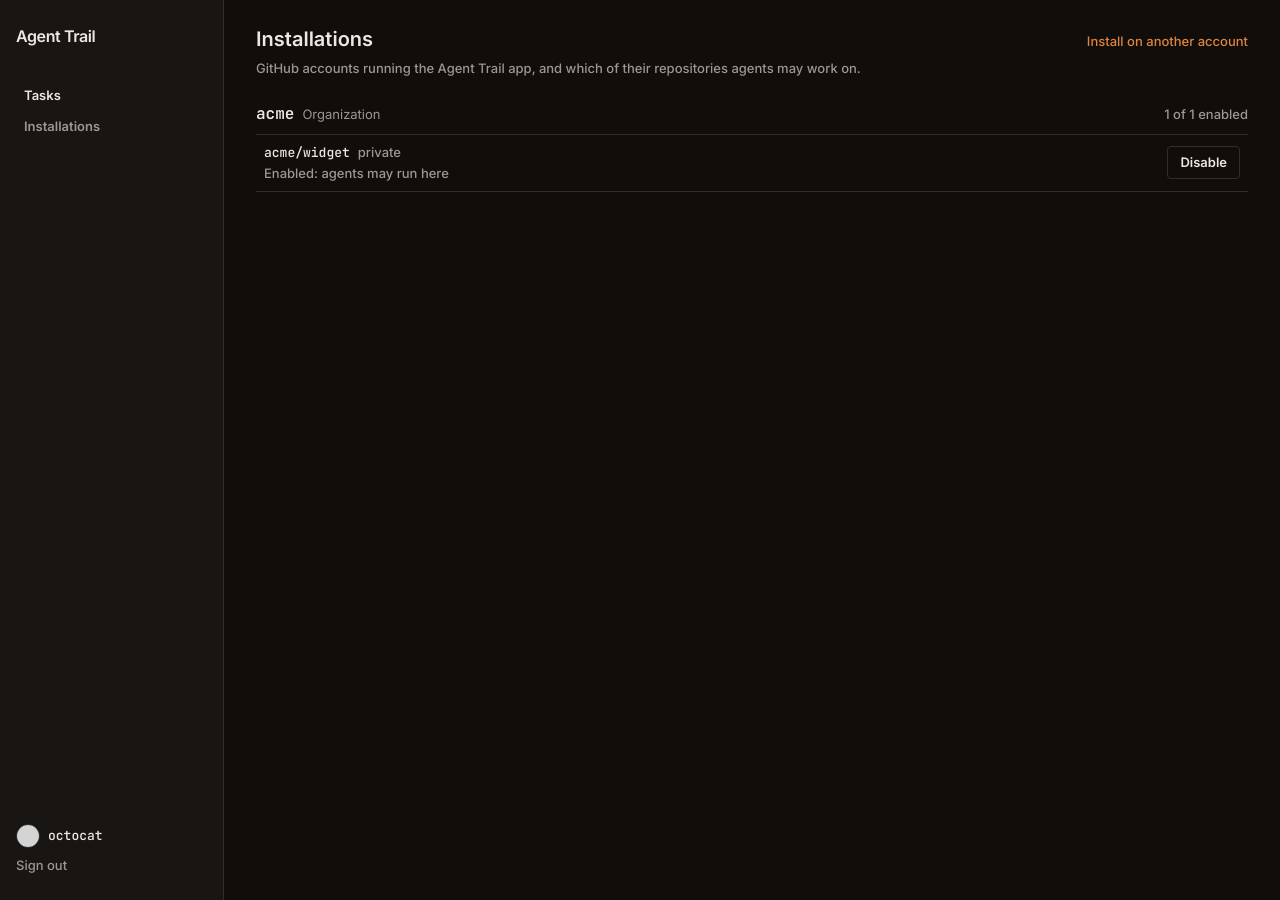
Test: disables a repository from its row
Click the button "Disable" at (1204, 163), box top-left (1167, 146), bottom-right (1240, 179)
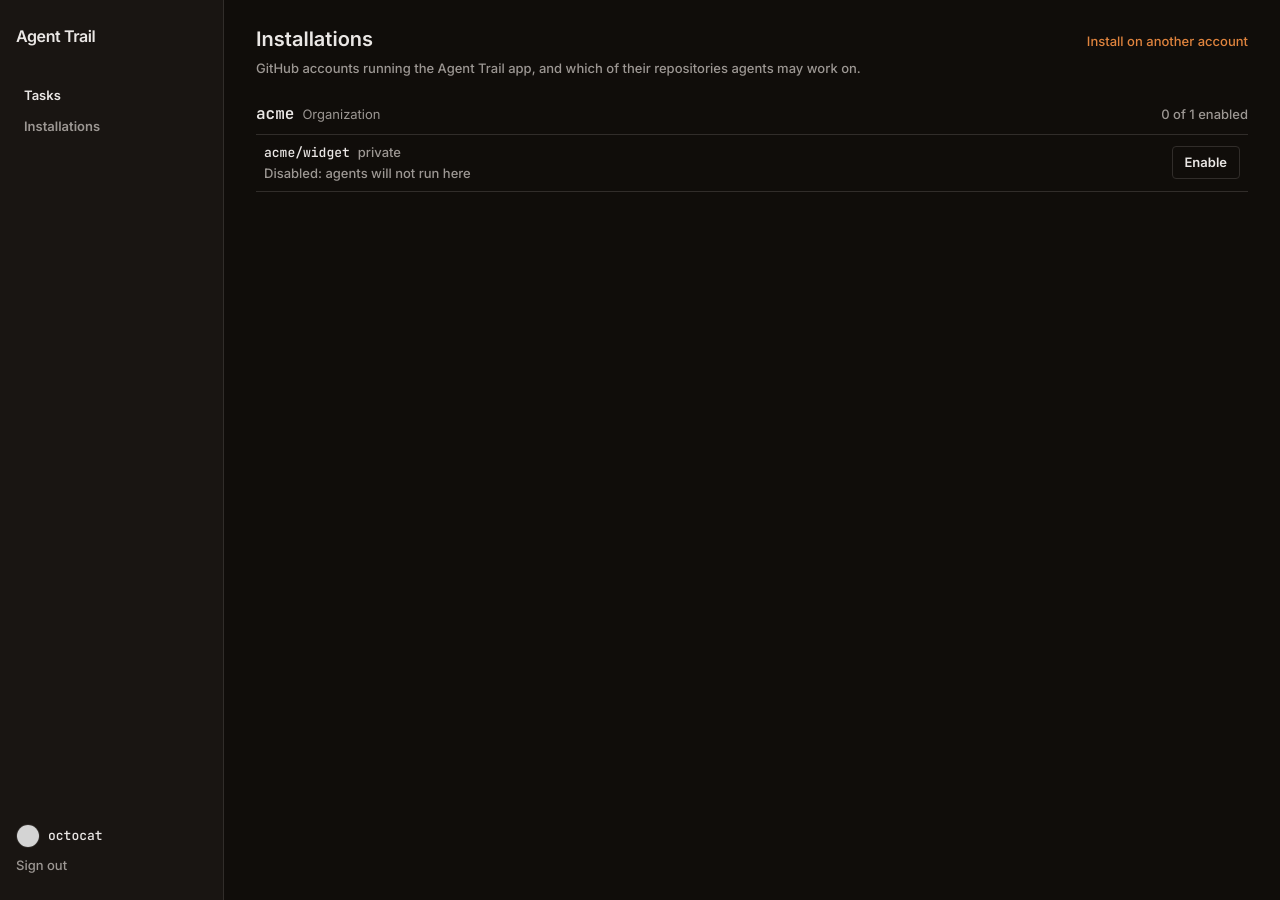
Now the text "Disabled: agents will not run here" is shown, box top-left (264, 165), bottom-right (471, 181)
Now the button "Enable" is shown, box top-left (1172, 146), bottom-right (1240, 179)
Now the text "0 of 1 enabled" is shown, box top-left (1161, 105), bottom-right (1248, 123)
